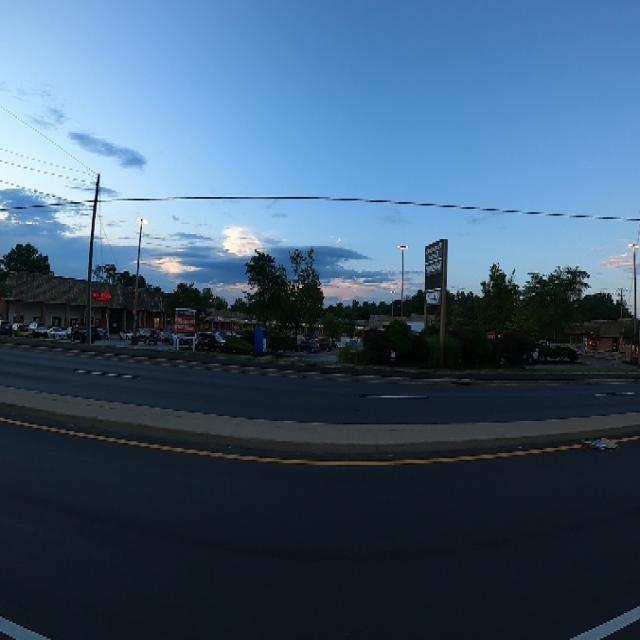cars: (133, 323, 160, 349), (70, 319, 91, 346), (28, 318, 46, 342), (198, 332, 223, 349), (48, 320, 68, 340), (117, 323, 134, 346), (316, 332, 332, 352), (163, 324, 179, 344), (92, 322, 108, 341), (1, 314, 12, 341), (12, 318, 26, 338)
